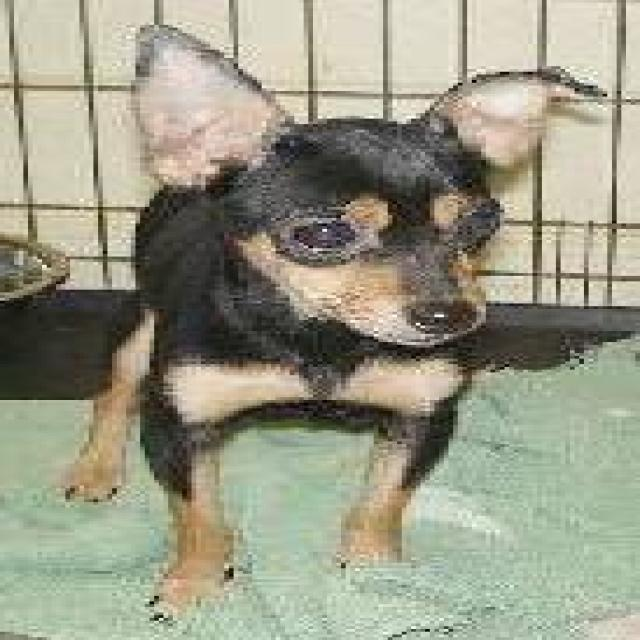dog: (61, 25, 621, 623)
